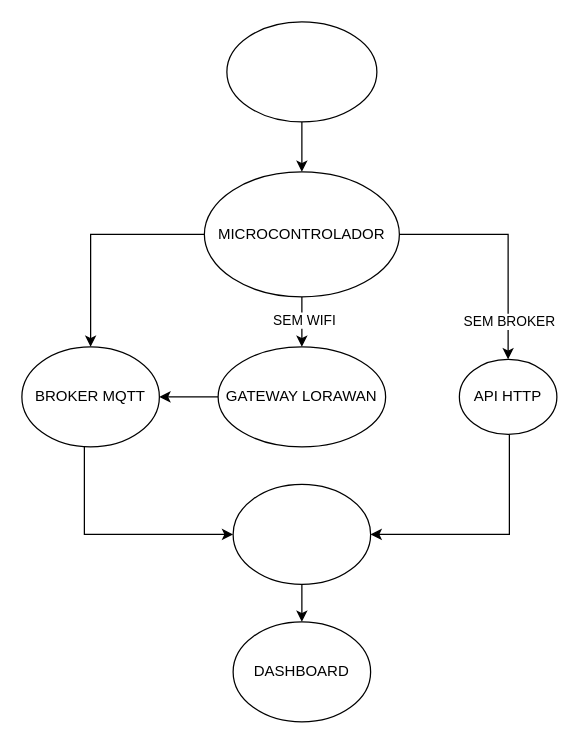
Some shapes in this 579 by 744 pixel diagram are drawn without their labels. Here are the shapes that lost their labels. From the top down, the box of each, then its label:
(226, 21, 377, 122): SENSORES
(232, 483, 371, 584): BANCO DE DADOS
